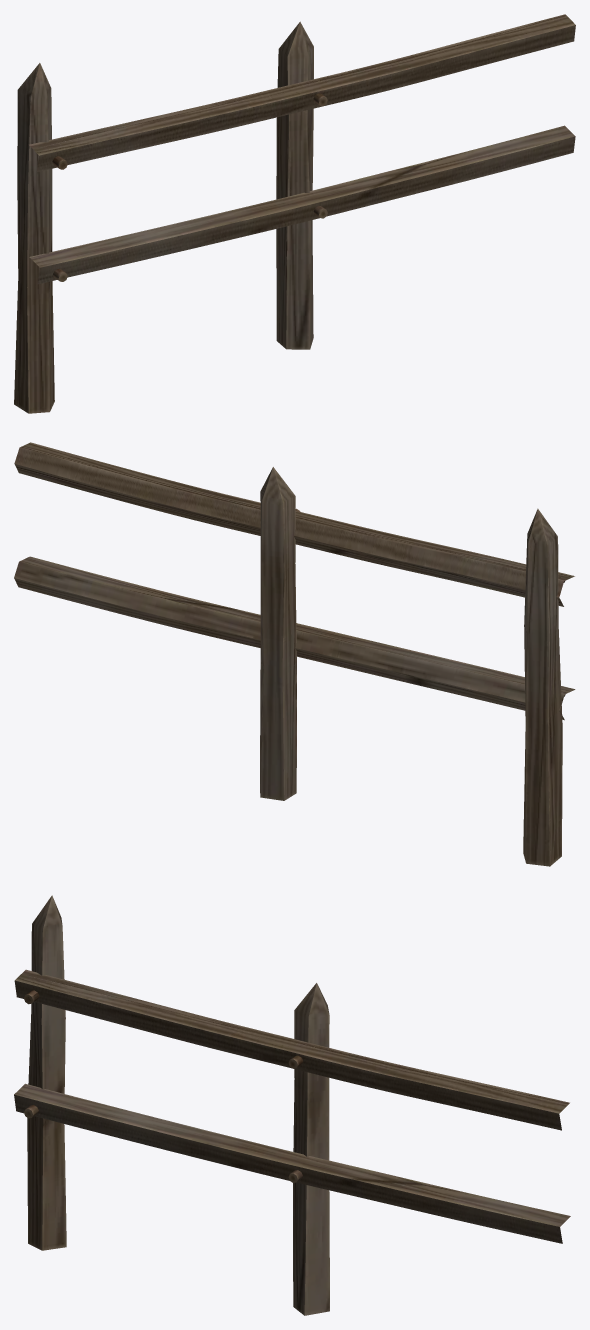
File: fence.glb
3 renders of one model, top to bottom at view 1: azimuth 30°, elevation 25°; view 2: azimuth 150°, elevation 25°; view 3: azimuth 330°, elevation 25°, orthographic.
Parts seen in each view (by area): view 1: fence; view 2: fence; view 3: fence.
Part boxes in pixels (x1,y1,x2,y2): fence: [14, 14, 575, 413]; fence: [14, 442, 575, 866]; fence: [14, 895, 570, 1315].
Bounding box in the file's own units: 2 × 1.22 × 0.2144.
1 material, 1 textured.
